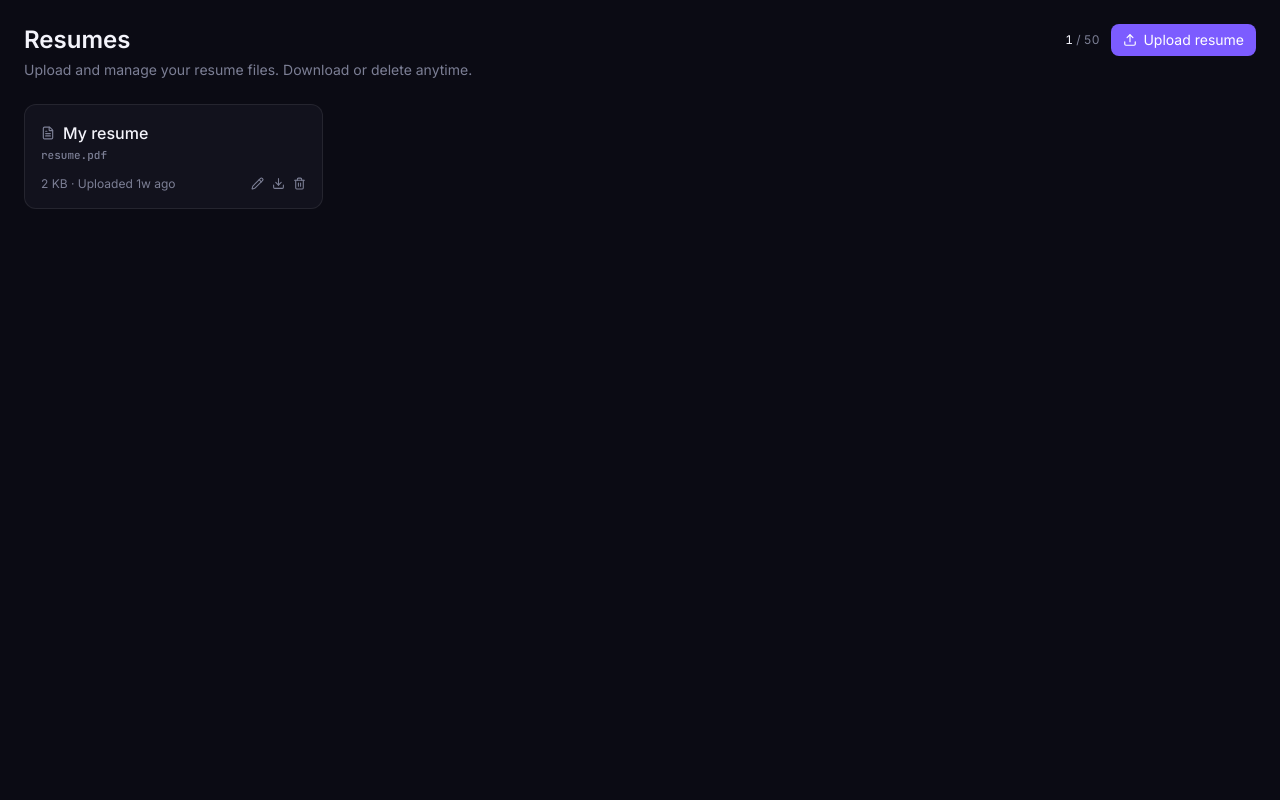
Test case: ResumeLibraryPage › opens the upload dialog when "Upload resume" is clicked
Expected: the text "My resume" is shown, [63, 121, 148, 145]
Step 1. Click the button "Upload resume" → (1184, 40), box [1111, 24, 1256, 56]
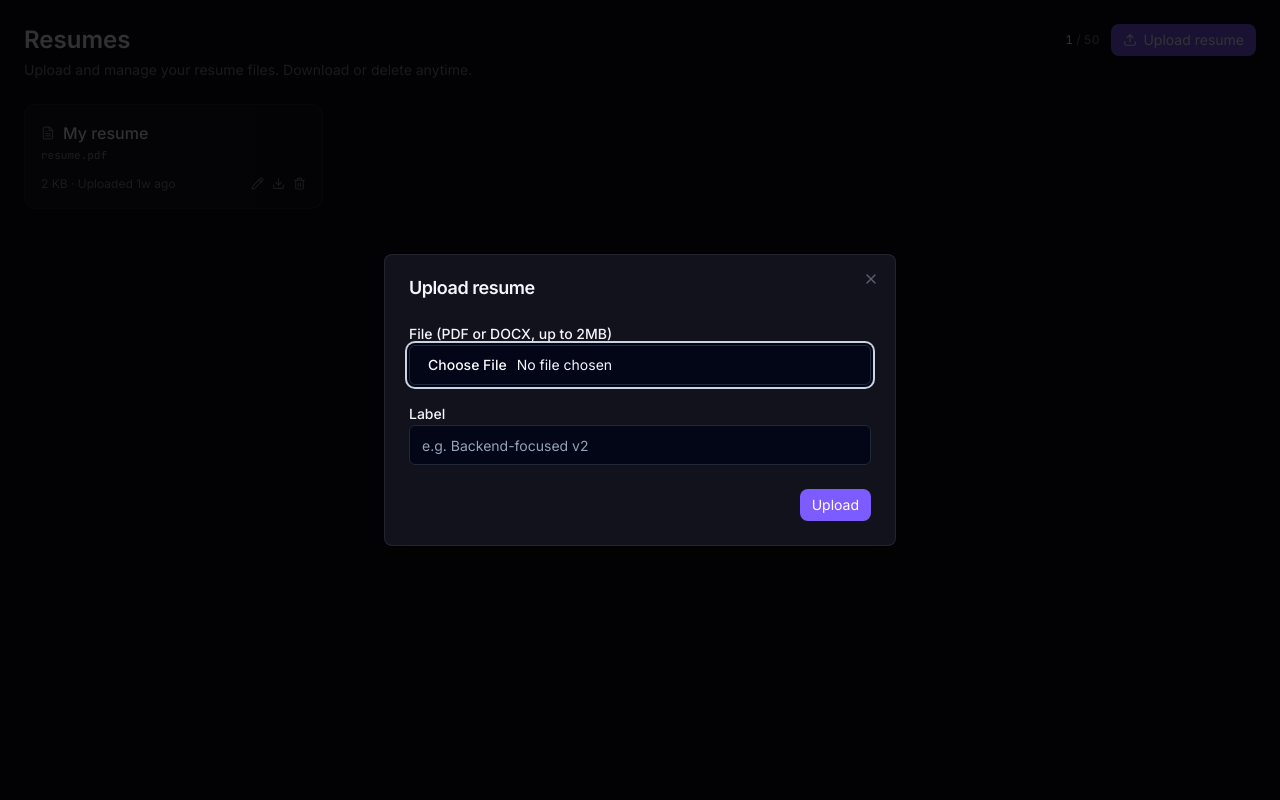
Expected: the file field labelled "File (PDF or DOCX, up to 2MB)" is shown, [409, 345, 871, 385]
